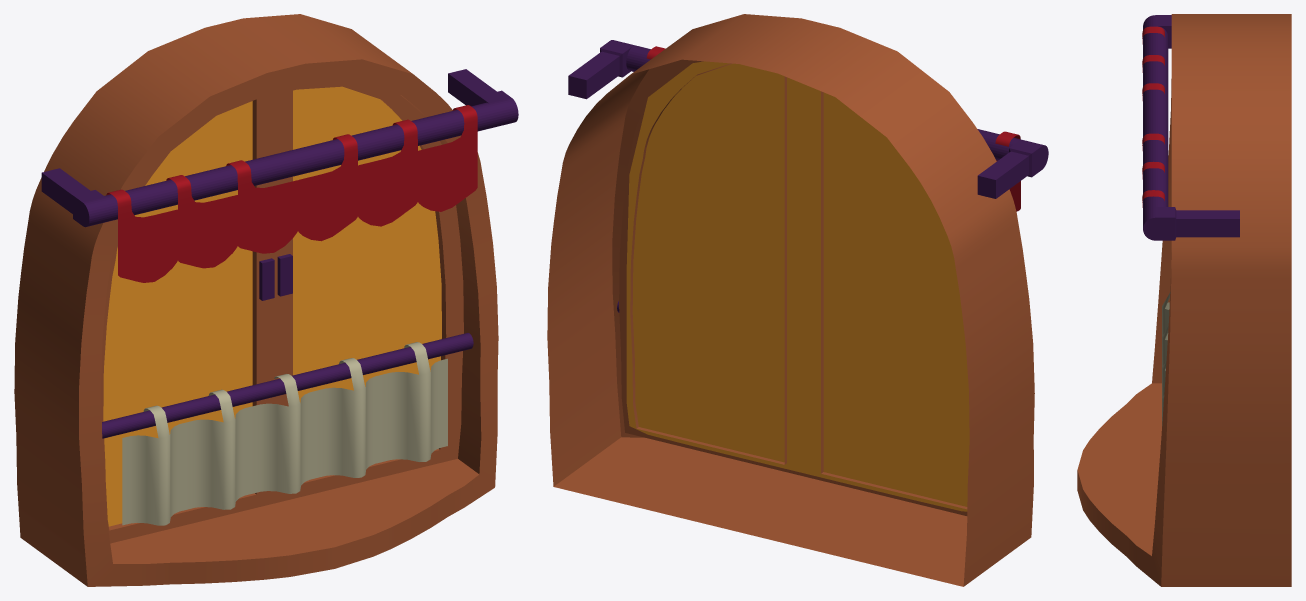
Rendered from italian_window.fbx.
The picture shows the model from 3 angles, left to right: view 1: azimuth 30°, elevation 25°; view 2: azimuth 150°, elevation 25°; view 3: azimuth 270°, elevation 25°; orthographic projection. The views are drawn at different scales.
Visible parts, largest first — view 1: Cube.006; view 2: Cube.006; view 3: Cube.006.
Part boxes in pixels (box(x1,y1,x2,y2)): Cube.006: box(14, 14, 518, 586); Cube.006: box(547, 14, 1048, 586); Cube.006: box(1077, 14, 1291, 586).
Bounding box in the file's own units: 59.98 × 62.11 × 26.77.
